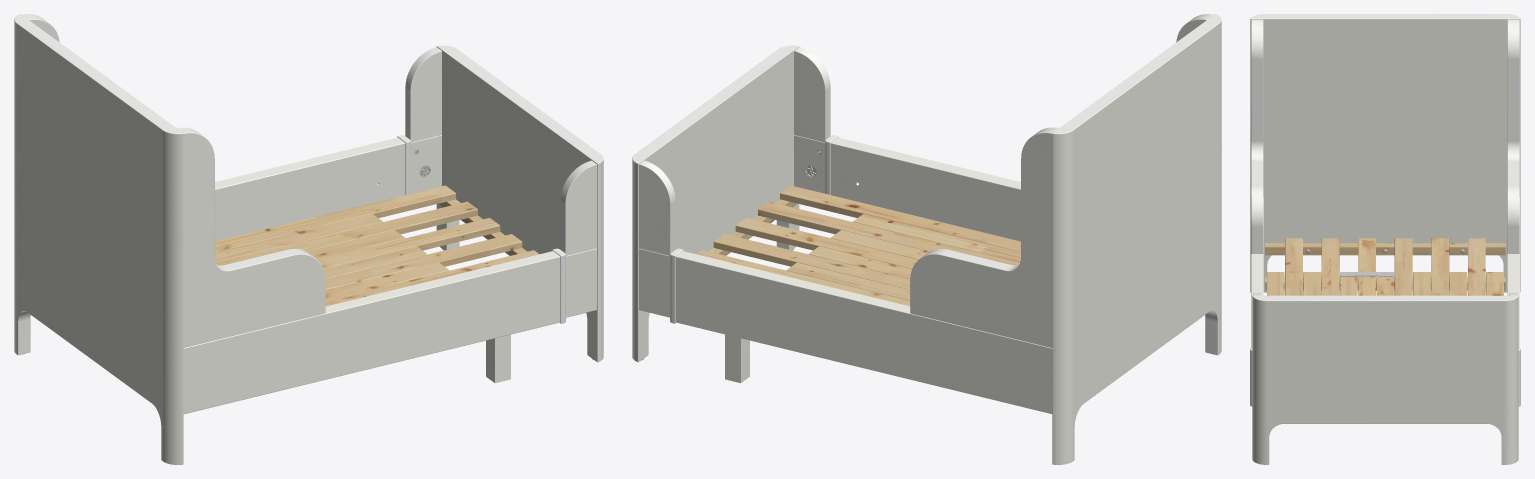
File: 03 - BUSUNGE - 延伸床, 白色, 80x200 公分 IKEA 線上購物.glb
3 views of the same model, side by side, from view 1: azimuth 30°, elevation 25°; view 2: azimuth 150°, elevation 25°; view 3: azimuth 270°, elevation 25° (orthographic). The views are drawn at different scales.
Size of the model in its own units: 1.39 by 1 by 0.8962.
Materials: 1 (1 with a texture image).
